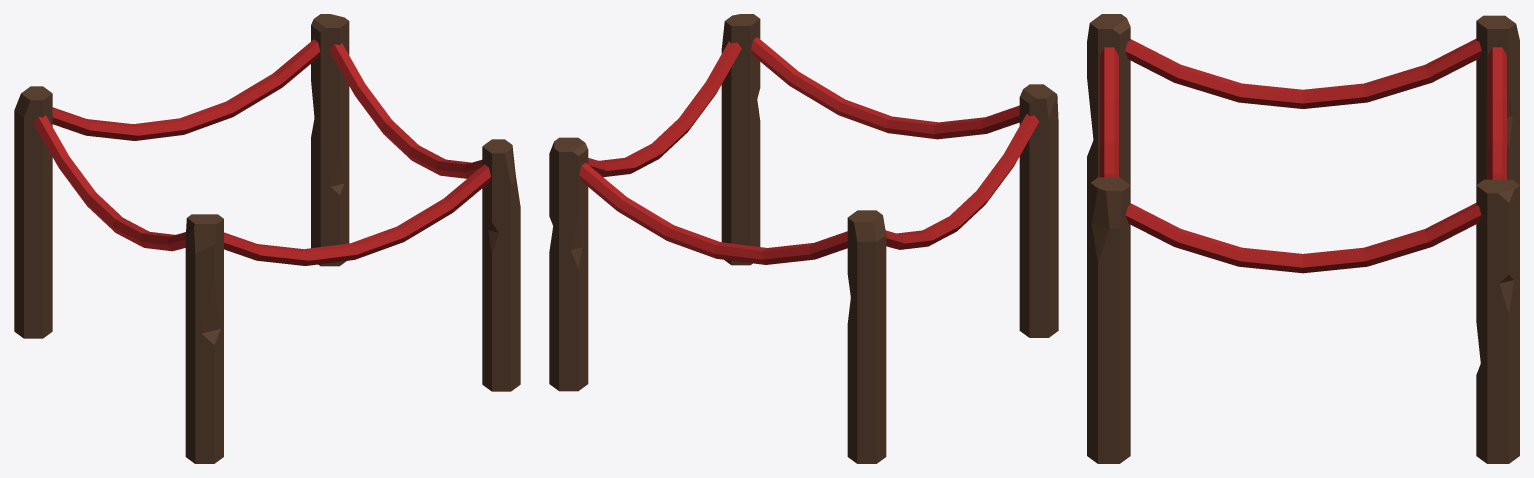
The model's file is Cage.fbx.
The picture shows the model from 3 angles, left to right: view 1: azimuth 30°, elevation 25°; view 2: azimuth 150°, elevation 25°; view 3: azimuth 270°, elevation 25°; orthographic projection. The views are drawn at different scales.
Parts seen in each view (by area): view 1: Cage; view 2: Cage; view 3: Cage.
Part boxes in pixels (x1,y1,x2,y2): Cage: (14,14,520,463); Cage: (549,14,1058,463); Cage: (1087,14,1519,463).
Size of the model in its own units: 219 by 153 by 222.
